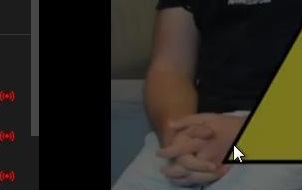cursor: (231, 144, 245, 164)
